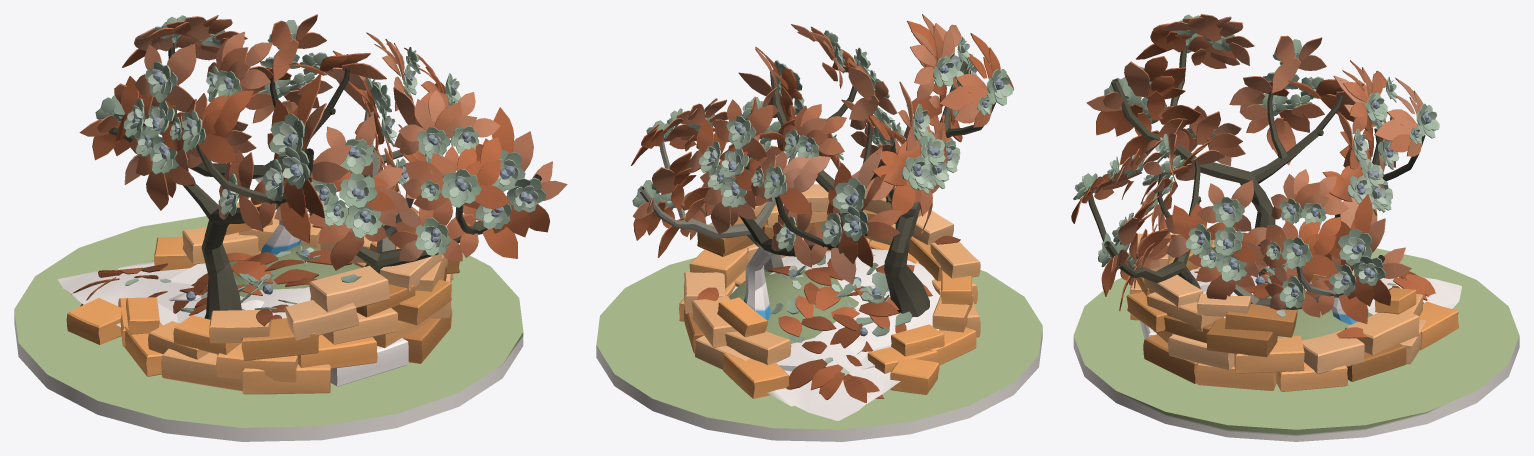
The model's file is Camellia.fbx.
3 views of the same model, side by side, from view 1: azimuth 30°, elevation 25°; view 2: azimuth 150°, elevation 25°; view 3: azimuth 270°, elevation 25° (orthographic). The views are drawn at different scales.
Visible parts, largest first — view 1: Well2, pCylinder2, group11 (×3), group21, group10 (×3), group22, tree1, tree (×3), polySurface26; view 2: Well2, pCylinder2, group11 (×3), group10 (×3), group21, tree (×3), group22, tree1, polySurface43, polySurface35, polySurface26, polySurface50; view 3: pCylinder2, Well2, group11 (×3), group21, group10 (×3), tree1, tree (×3), group22.
Part boxes in pixels (x1,y1,x2,y2): Well2: [58, 199, 459, 394]; pCylinder2: [14, 214, 523, 441]; group11 (×3): [79, 14, 567, 270]; group21: [115, 31, 352, 243]; group10 (×3): [95, 15, 546, 256]; group22: [123, 61, 310, 215]; tree1: [143, 107, 313, 319]; tree (×3): [108, 43, 541, 273]; polySurface26: [231, 261, 272, 283]; Well2: [679, 184, 980, 420]; pCylinder2: [596, 257, 1042, 441]; group11 (×3): [631, 24, 906, 284]; group10 (×3): [632, 30, 905, 251]; group21: [864, 14, 1013, 233]; tree (×3): [638, 69, 895, 321]; group22: [901, 36, 1013, 194]; tree1: [884, 53, 997, 317]; polySurface43: [786, 359, 827, 389]; polySurface35: [858, 301, 899, 316]; polySurface26: [815, 286, 840, 310]; polySurface50: [810, 364, 842, 390]; pCylinder2: [1073, 248, 1519, 441]; Well2: [1126, 228, 1461, 391]; group11 (×3): [1071, 60, 1423, 323]; group21: [1086, 14, 1367, 165]; group10 (×3): [1073, 77, 1439, 308]; tree1: [1111, 45, 1343, 275]; tree (×3): [1088, 123, 1425, 324]; group22: [1104, 14, 1323, 144].
Size of the model in its own units: 5.6 by 4.22 by 5.63.
Materials: 1 (1 with a texture image).
